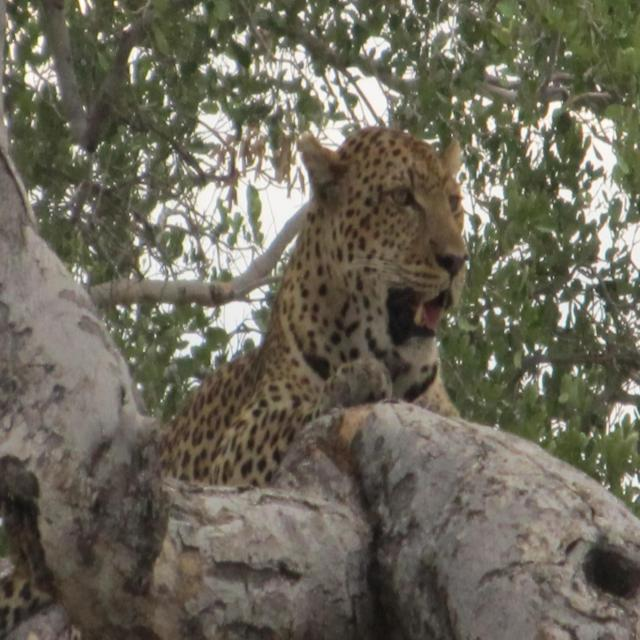Leopard: (63, 69, 474, 639)
